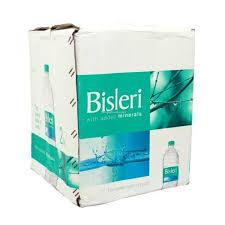Cardboard: (10, 17, 213, 217)
